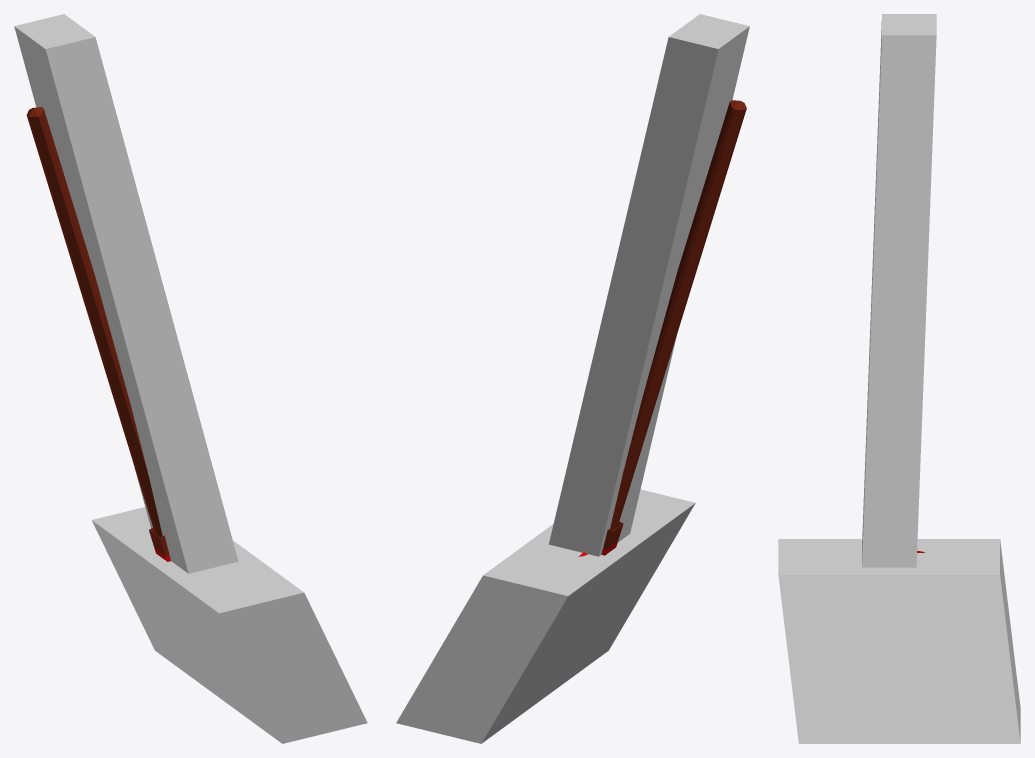
File: schaufel.fbx
3 renders of one model, left to right at view 1: azimuth 30°, elevation 25°; view 2: azimuth 150°, elevation 25°; view 3: azimuth 270°, elevation 25°, orthographic. The views are drawn at different scales.
Parts seen in each view (by area): view 1: Cube.011, Box001; view 2: Cube.011, Box001; view 3: Cube.011.
Part boxes in pixels (bbox=[...]): Cube.011: bbox=[14, 14, 367, 743]; Box001: bbox=[26, 107, 170, 561]; Cube.011: bbox=[396, 14, 749, 743]; Box001: bbox=[578, 100, 746, 556]; Cube.011: bbox=[778, 14, 1020, 743].
Size of the model in its own units: 417 by 1001 by 358.
